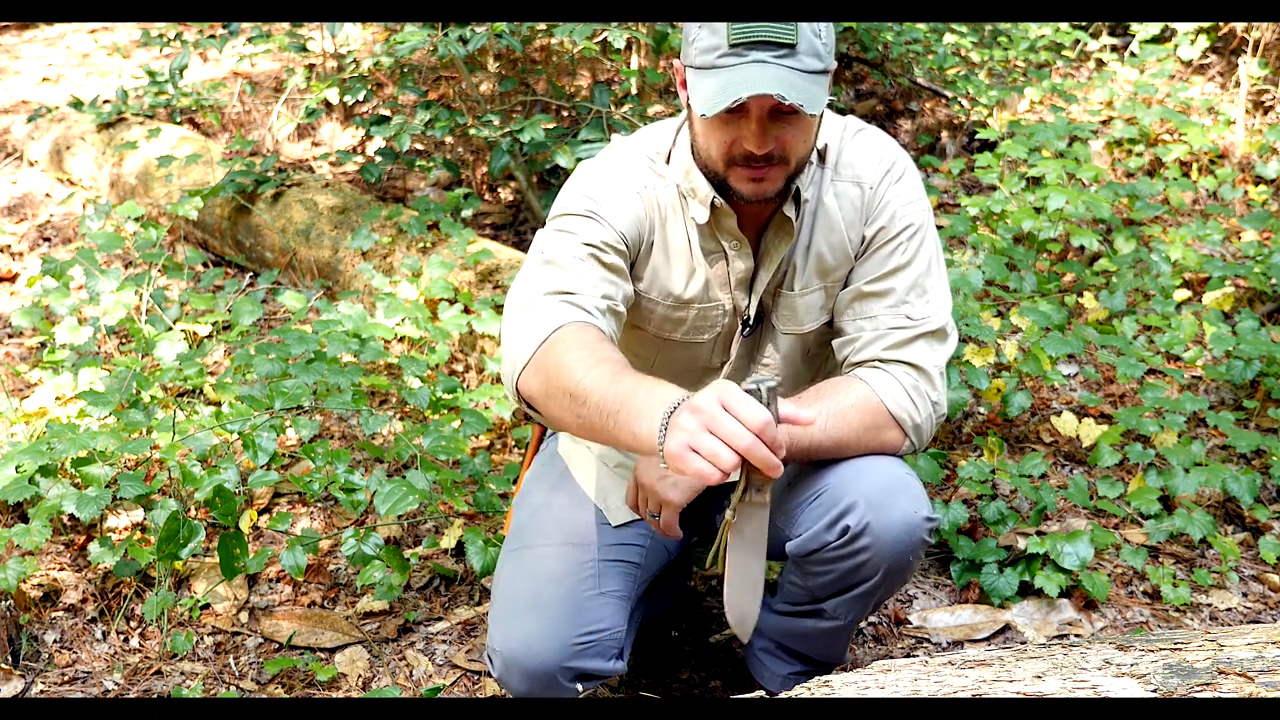knife: (693, 383, 786, 654)
